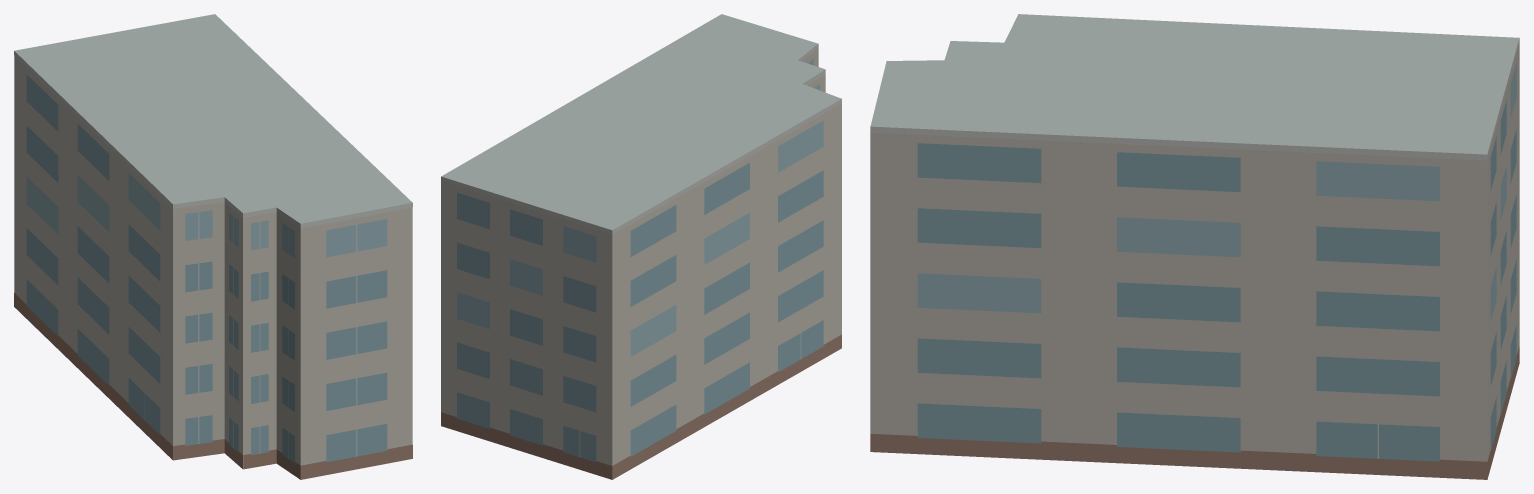
The model's file is survey-upis-32573592.glb.
3 renders of one model, left to right at view 1: azimuth 30°, elevation 25°; view 2: azimuth 150°, elevation 25°; view 3: azimuth 270°, elevation 25°, orthographic. The views are drawn at different scales.
Visible parts, largest first — view 1: survey-upis-32573592.tmp; view 2: survey-upis-32573592.tmp; view 3: survey-upis-32573592.tmp.
Boxes of the visible parts, bbox=[...] form: survey-upis-32573592.tmp: bbox=[14, 14, 412, 479]; survey-upis-32573592.tmp: bbox=[441, 14, 841, 479]; survey-upis-32573592.tmp: bbox=[870, 14, 1519, 479].
Bounding box in the file's own units: 12.33 × 13.3 × 24.06.
